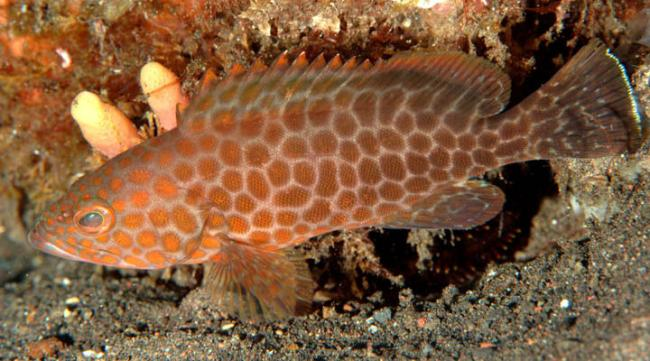fish: (30, 36, 643, 319)
